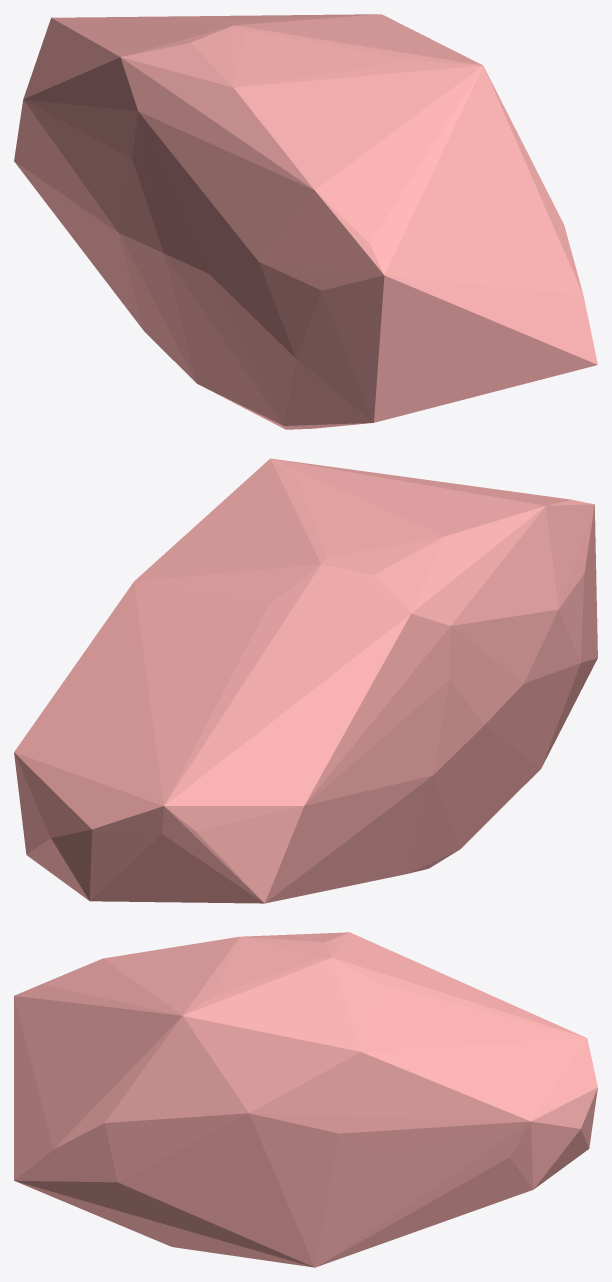
File: dvkr_robot_L2_respondable_TOOL2_coll_1.dae
The picture shows the model from 3 angles, top to bottom: view 1: azimuth 30°, elevation 25°; view 2: azimuth 150°, elevation 25°; view 3: azimuth 270°, elevation 25°; orthographic projection. The views are drawn at different scales.
Visible parts, largest first — view 1: Node_0000023514CD9BB0; view 2: Node_0000023514CD9BB0; view 3: Node_0000023514CD9BB0.
Part boxes in pixels (left/top/right/bottom): Node_0000023514CD9BB0: left=14, top=14, right=597, bottom=429; Node_0000023514CD9BB0: left=14, top=458, right=597, bottom=903; Node_0000023514CD9BB0: left=14, top=932, right=597, bottom=1267.
Bounding box in the file's own units: 0.00634 × 0.00632 × 0.0136.
